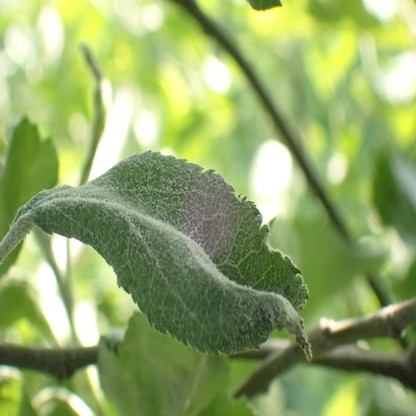powdery_mildew: (16, 150, 313, 360)
